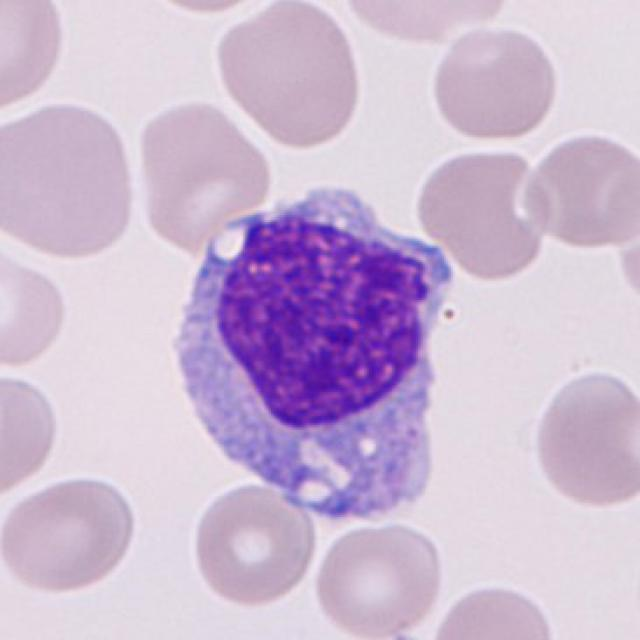Monocyte: (156, 179, 467, 535)
RBC: (0, 97, 143, 262), (210, 0, 365, 151), (133, 94, 276, 252), (411, 142, 551, 281), (0, 470, 142, 595), (189, 477, 318, 610), (309, 518, 447, 640), (427, 23, 561, 144), (528, 366, 637, 512), (520, 128, 638, 252), (0, 240, 72, 372), (0, 368, 63, 501), (426, 577, 559, 640), (0, 0, 70, 118), (338, 0, 500, 45), (612, 215, 640, 316), (129, 0, 288, 17)
